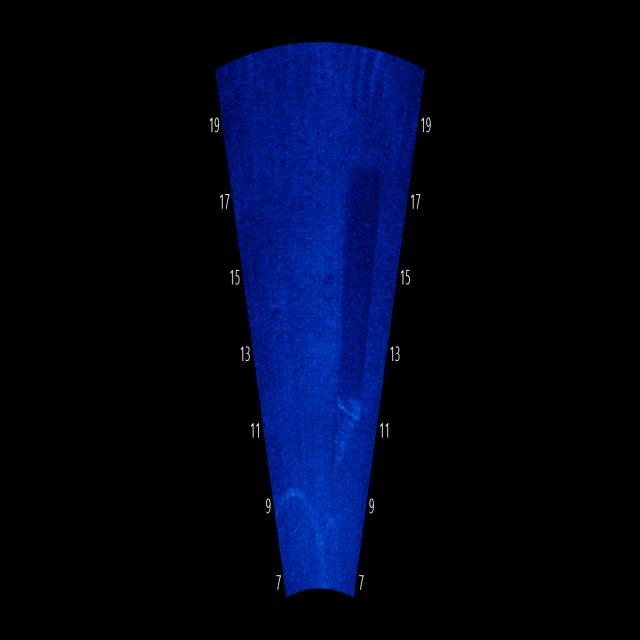triangle: (324, 388, 366, 492)
